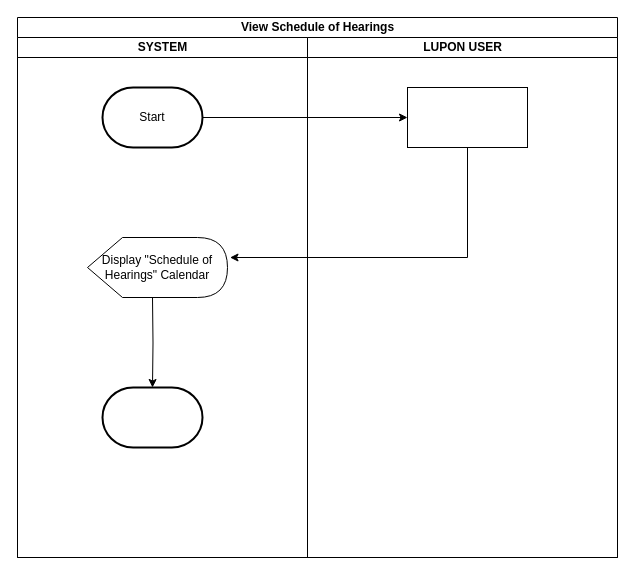
Some shapes in this 635 by 575 pixel diagram are drawn without their labels. Here are the shapes that lost their labels. From the top down, the box of each, then its label:
(406, 86, 528, 148): Click "Schedule of Hearings"
(101, 386, 203, 448): End
